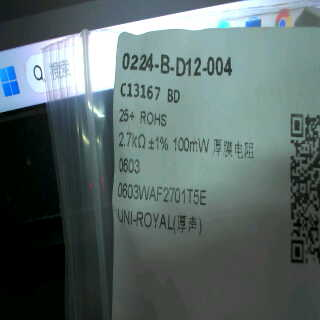2.7kR: (117, 130, 148, 150)
